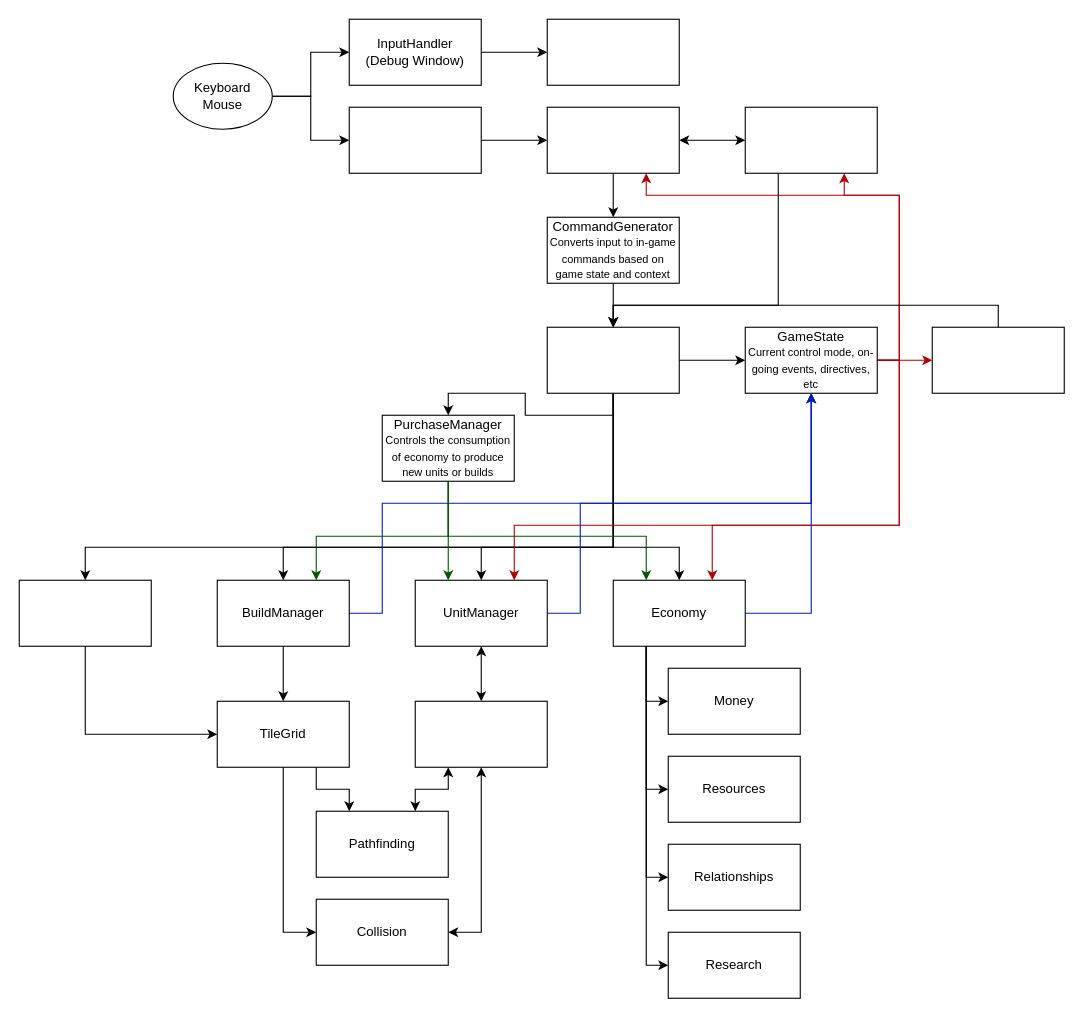
Some shapes in this 1084 by 1018 pixel diagram are drawn without their labels. The shapes that lost their labels are listed below. From the top down, each one's centre as x and y in pixels, then its label:
At point 612,51: "UiView (Debug UI)".
At point 414,139: "InputHandler (Game Window)".
At point 612,139: "ActionRouter Determine whether input should be sent to UI or game world".
At point 810,139: "UiView (In-Game UI)".
At point 612,359: "CommandRouter Distributes commands to their proper destinations".
At point 997,359: "EventGenerator Creates random events in the game world".
At point 84,612: "RoomManager".
At point 480,733: "Units Intent, Movement, Decision Making".
